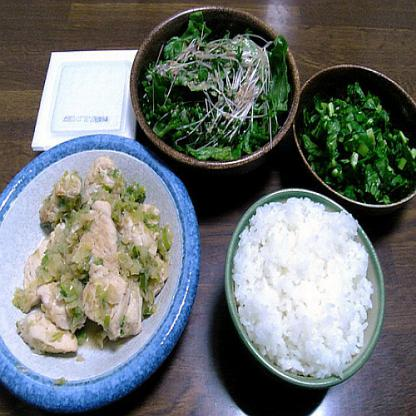rice ball: (232, 194, 370, 368)
